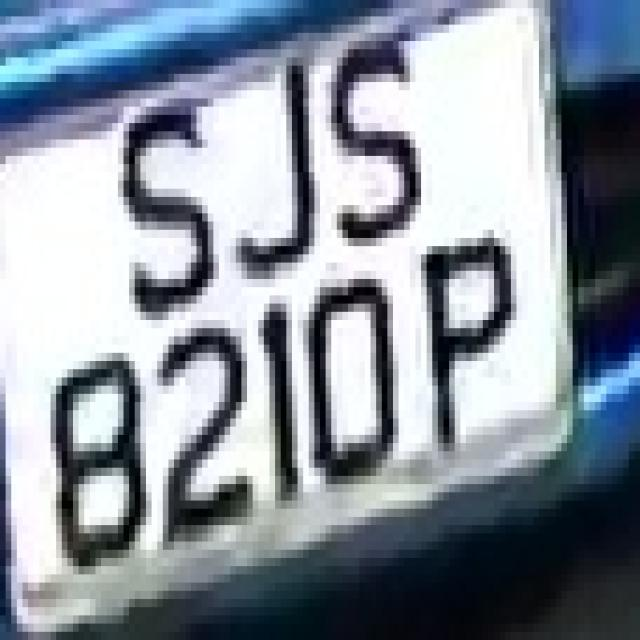0: (298, 246, 393, 509)
1: (242, 279, 304, 533)
2: (146, 304, 258, 558)
8: (39, 320, 152, 574)
J: (224, 49, 337, 304)
P: (415, 221, 528, 476)
S: (315, 33, 449, 271), (112, 74, 219, 353)
